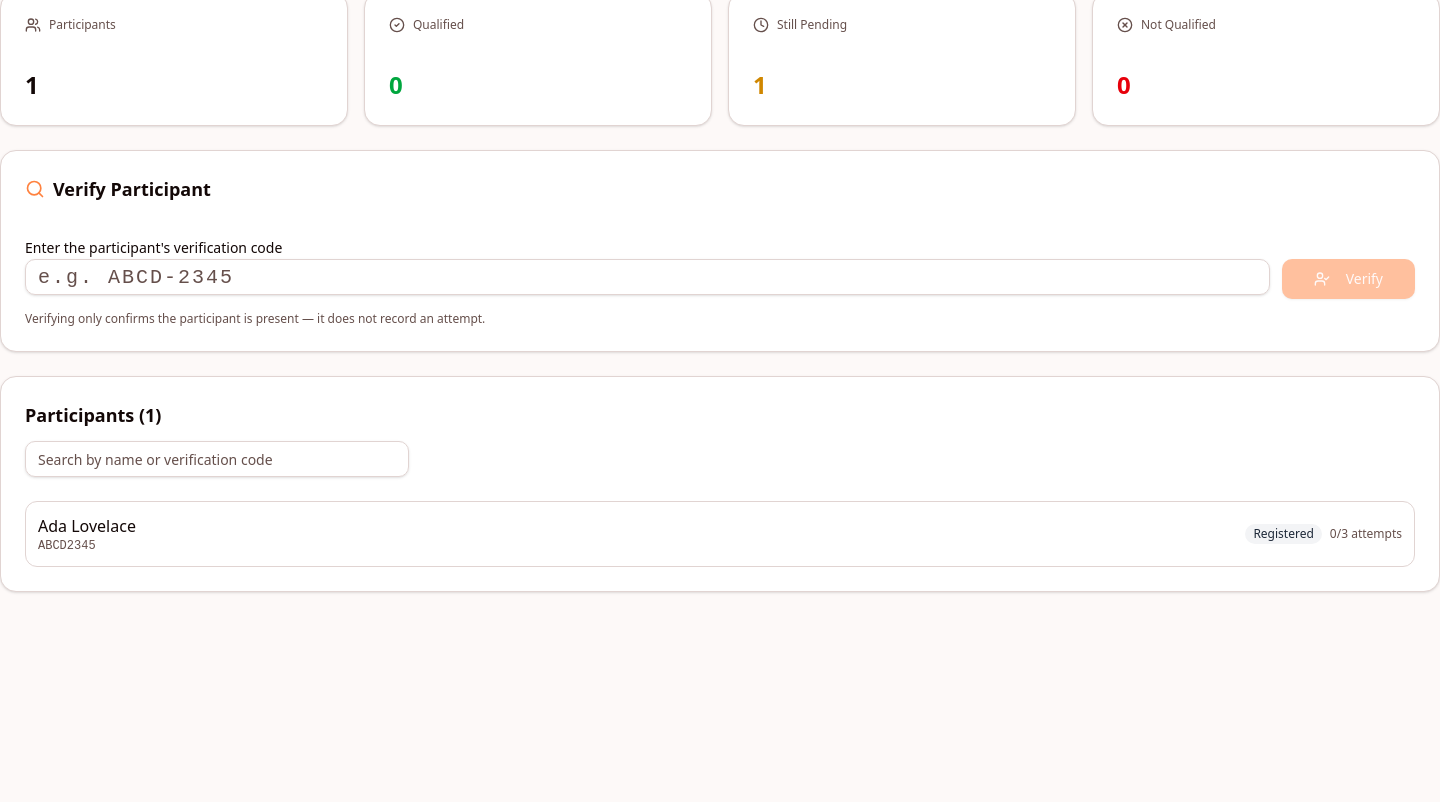
Test: T-REM-3: ParticipantManager remove/ban › removes on confirmation, shows success and flags the row as Removed
Click the button "Ada Lovelace ABCD2345 Registered 0/3 attempts": {"x": 87, "y": 526} [25,501,1415,567]
(page scrolled)
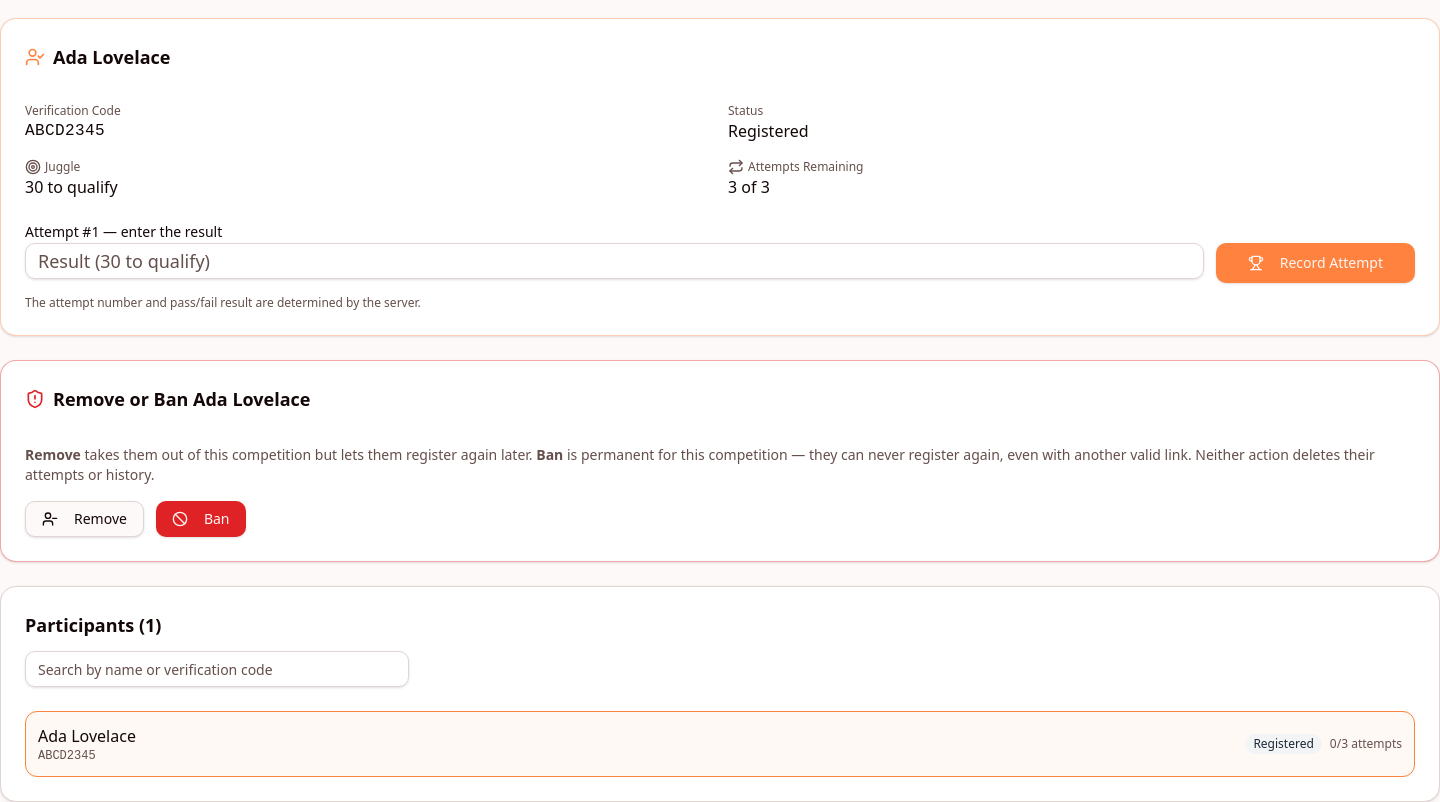
Click the button "Remove": {"x": 84, "y": 519} [25,501,144,537]
(page scrolled)
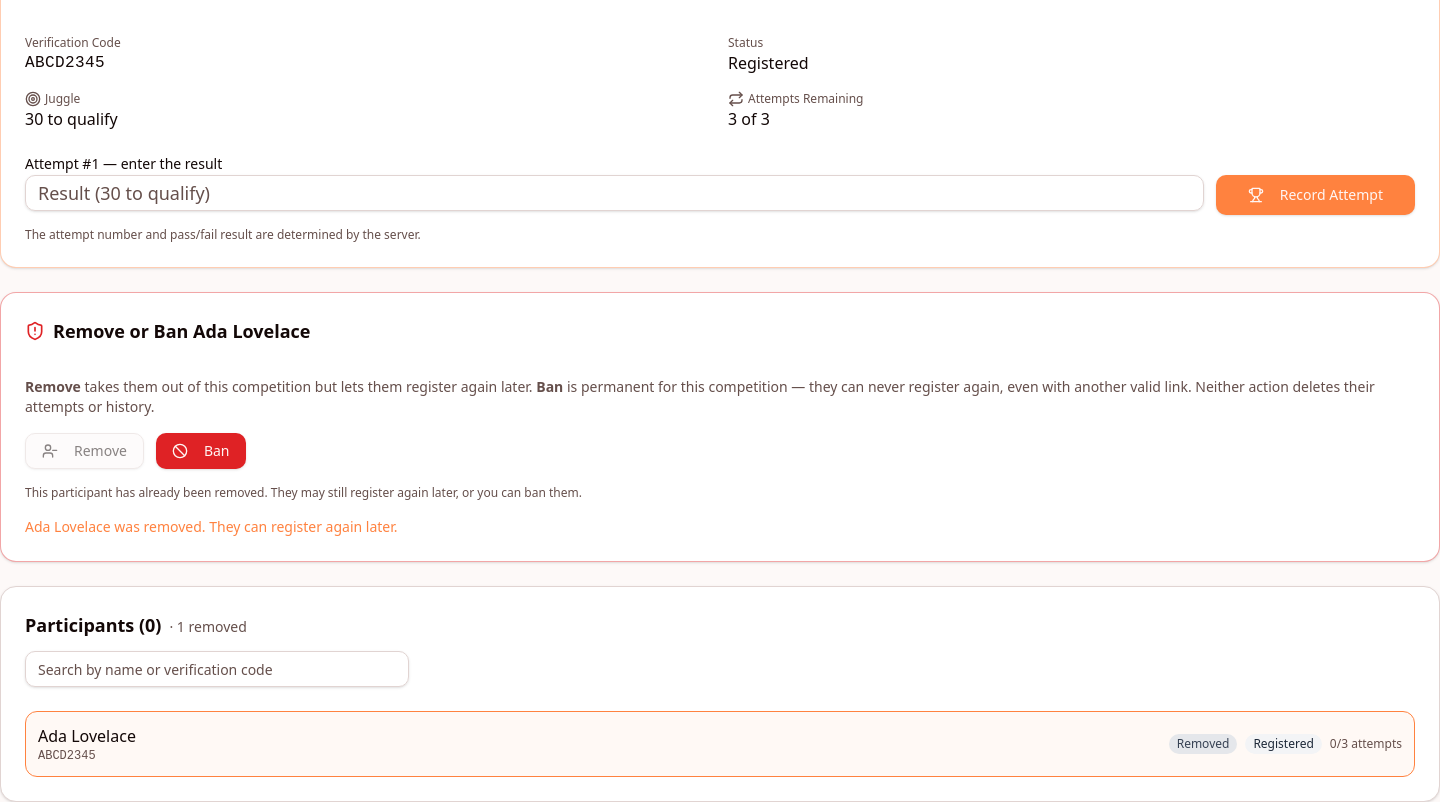
Expected: the text "Ada Lovelace was removed. They can register again later." is shown, [25,517,398,536]
Expected: the text "Removed" is shown, [1169,734,1237,754]
